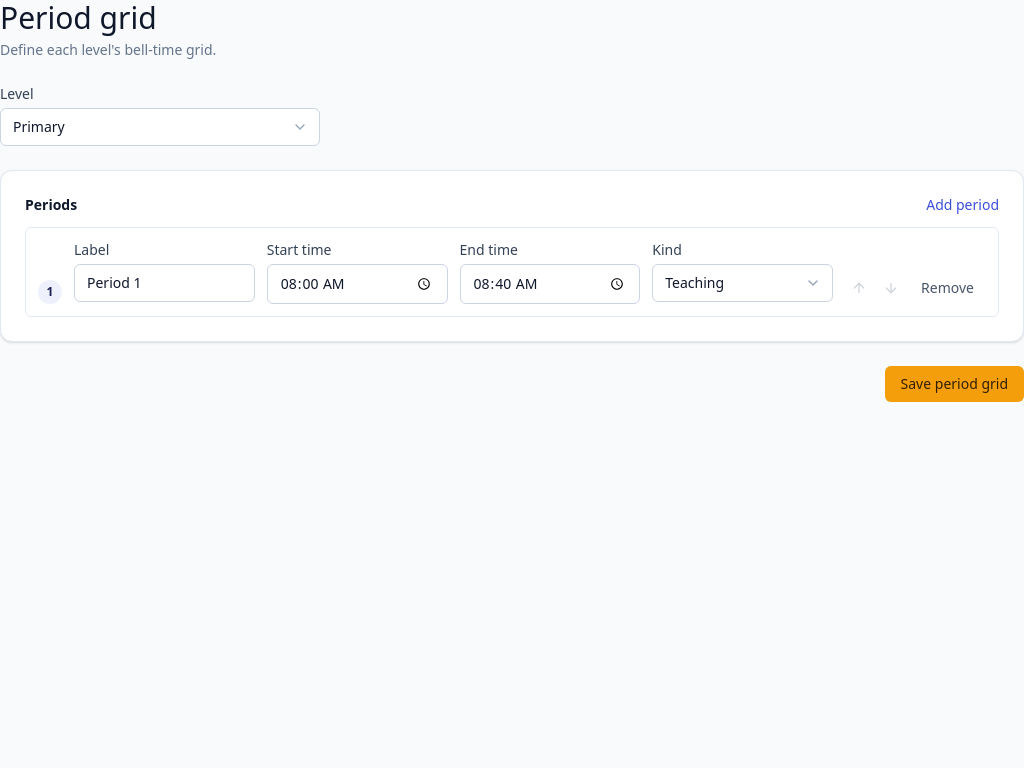
Test case: PeriodGridPage › opens an error dialog with the server's message when save is rejected
Expected: the field showing "Period 1" is shown, [74,264,255,302]
Click the button "Save period grid".
click(954, 384)  # box [885,366,1023,402]
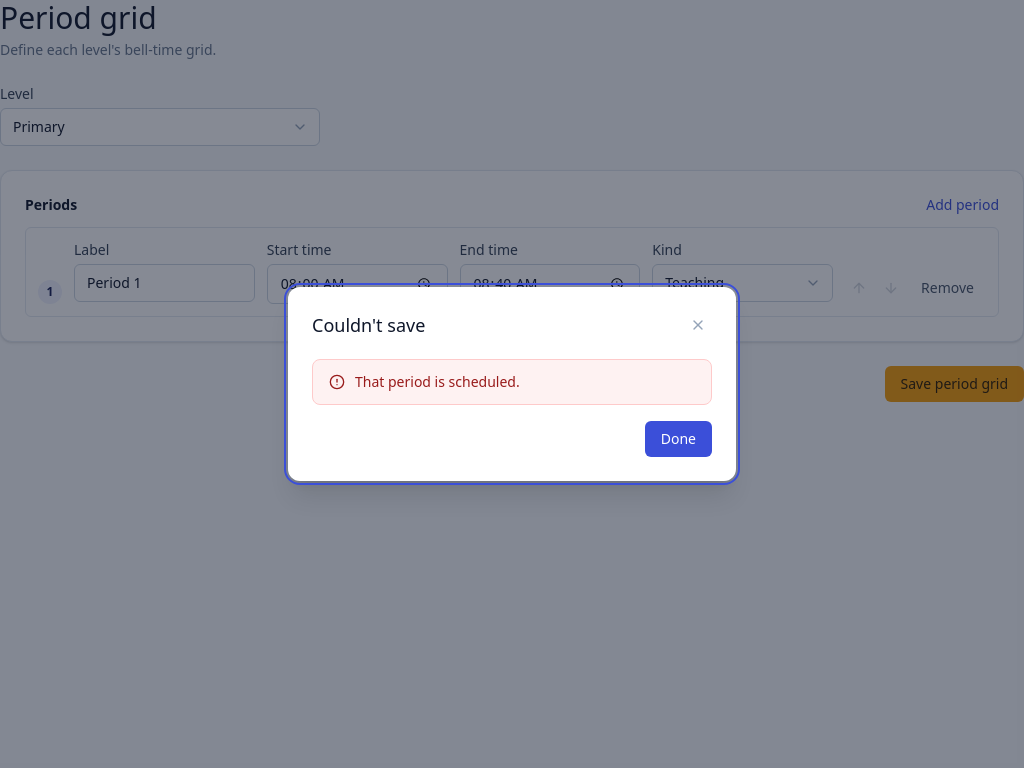
Result: the text "That period is scheduled." is shown at [355,372,520,392]
